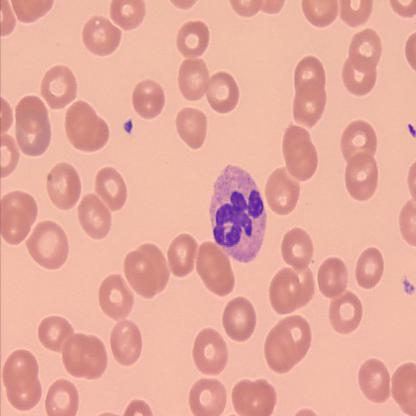Segmented neutrophil: (208, 161, 270, 265)
